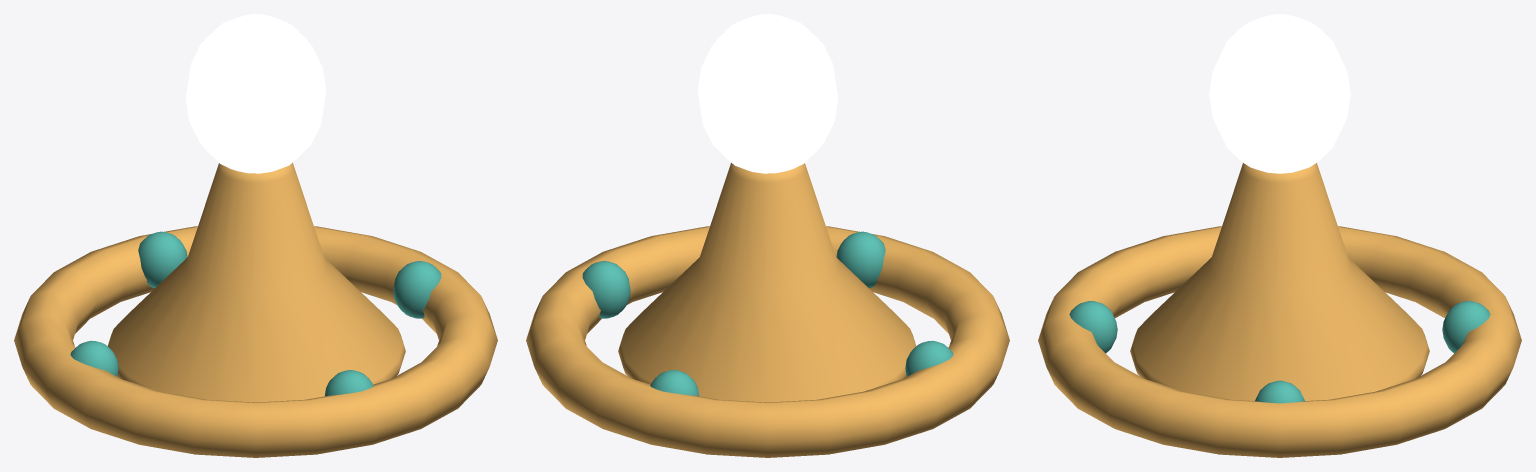
The model's file is hotelBeacon.glb.
The picture shows the model from 3 angles, left to right: view 1: azimuth 30°, elevation 25°; view 2: azimuth 150°, elevation 25°; view 3: azimuth 270°, elevation 25°; orthographic projection.
Visible parts, largest first — view 1: hotelBeacon Bellmare objective brass, hotelBeacon Bellmare objective glow, hotelBeacon Bellmare objective enamel; view 2: hotelBeacon Bellmare objective brass, hotelBeacon Bellmare objective glow, hotelBeacon Bellmare objective enamel; view 3: hotelBeacon Bellmare objective brass, hotelBeacon Bellmare objective glow, hotelBeacon Bellmare objective enamel.
Boxes of the visible parts, <box> form: hotelBeacon Bellmare objective brass: <box>14,162,497,457</box>; hotelBeacon Bellmare objective glow: <box>185,14,326,173</box>; hotelBeacon Bellmare objective enamel: <box>70,231,441,396</box>; hotelBeacon Bellmare objective brass: <box>526,162,1009,457</box>; hotelBeacon Bellmare objective glow: <box>697,14,838,173</box>; hotelBeacon Bellmare objective enamel: <box>582,231,953,396</box>; hotelBeacon Bellmare objective brass: <box>1038,163,1521,457</box>; hotelBeacon Bellmare objective glow: <box>1209,14,1350,173</box>; hotelBeacon Bellmare objective enamel: <box>1069,301,1490,403</box>.
Bounding box in the file's own units: 0.41 × 0.36 × 0.41.
